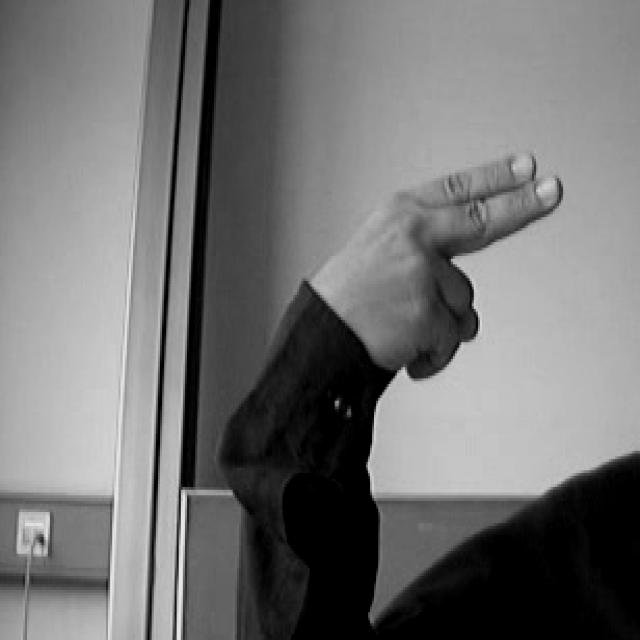H: (310, 135, 569, 392)
